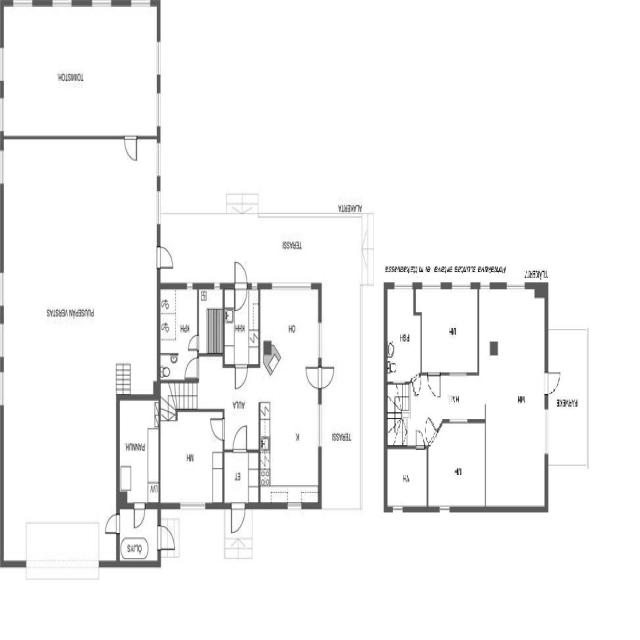door: (118, 506, 159, 564), (304, 363, 336, 390), (233, 260, 248, 310), (156, 521, 177, 553), (229, 500, 247, 535), (542, 369, 563, 396), (155, 244, 176, 270), (426, 369, 442, 400), (123, 133, 138, 165), (232, 423, 248, 453), (233, 362, 249, 391), (209, 415, 226, 441), (132, 501, 147, 530), (104, 511, 121, 536), (183, 354, 200, 379), (427, 417, 442, 445), (187, 332, 201, 352), (415, 428, 426, 449)
window: (23, 553, 101, 578), (268, 278, 314, 294), (178, 497, 208, 513), (316, 401, 325, 451), (542, 404, 550, 460), (316, 318, 325, 362), (154, 36, 163, 79), (153, 138, 162, 181), (504, 278, 528, 294), (154, 186, 162, 232), (155, 88, 163, 132), (284, 495, 304, 512), (448, 279, 474, 292), (392, 278, 415, 292), (420, 278, 443, 292), (10, 0, 35, 12), (50, 0, 74, 11), (0, 42, 6, 86), (0, 365, 6, 409), (0, 268, 6, 310), (0, 319, 6, 361), (89, 0, 114, 10), (128, 0, 152, 9), (478, 278, 493, 292), (0, 146, 5, 188), (0, 94, 5, 135), (437, 502, 452, 515), (390, 504, 406, 514), (184, 279, 196, 292), (210, 280, 222, 292), (248, 281, 260, 293)
zone: (2, 136, 118, 564), (0, 4, 160, 140), (484, 287, 548, 508), (260, 287, 320, 506), (118, 134, 159, 402), (159, 411, 224, 504), (260, 285, 320, 375), (419, 285, 478, 374), (427, 420, 486, 508), (118, 396, 160, 504), (159, 285, 199, 381), (386, 284, 421, 384), (384, 446, 428, 510), (226, 288, 260, 367), (118, 509, 160, 563), (198, 286, 226, 358), (224, 450, 260, 506)
